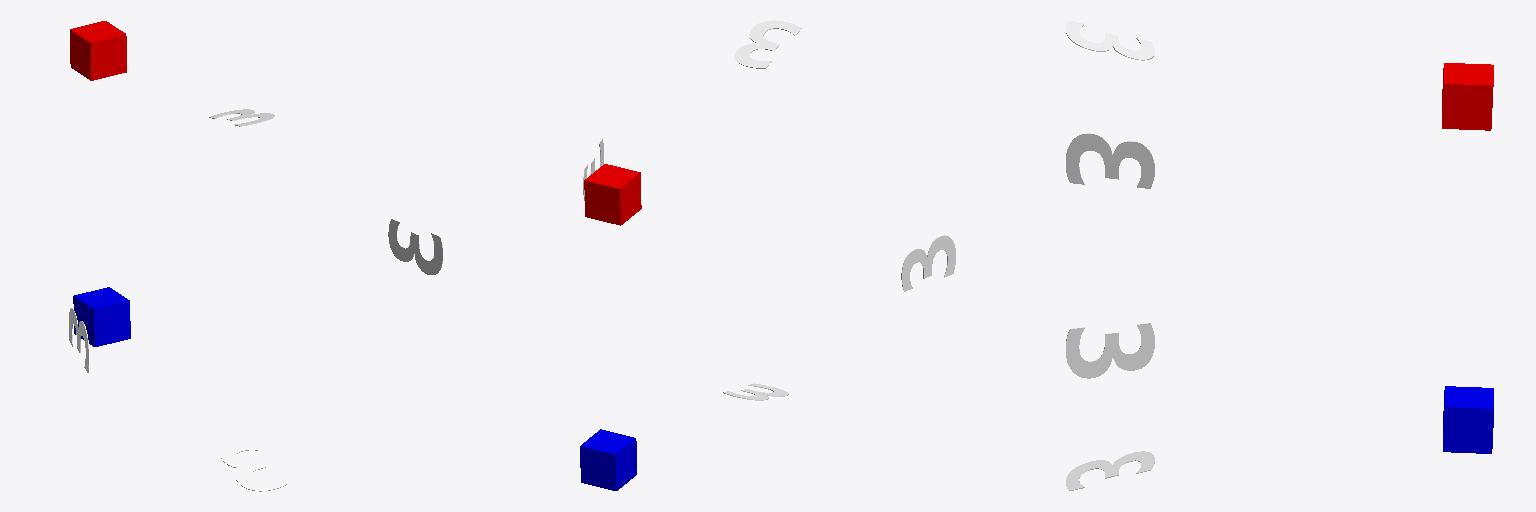
The robot description file, URDF, robot "infantry":
<?xml version="1.0" encoding="utf-8"?>
<!-- This URDF was automatically created by SolidWorks to URDF Exporter! Originally created by
Stephen Brawner (brawner@gmail.com) 
     Commit Version: 1.6.0-4-g7f85cfe  Build Version: 1.6.7995.38578
     For more information, please see http://wiki.ros.org/sw_urdf_exporter -->
<robot
    name="infantry">


    <link name="root">
        <inertial>
            <mass value="0" />
            <inertia ixx="0.00" ixy="0.00" ixz="0.00" iyy="0.00" iyz="0.00" izz="0.00" />
        </inertial>
    </link>
    <link name="root_base_1_link_1">
        <inertial>
            <mass value="0" />
            <inertia ixx="0.00" ixy="0.00" ixz="0.00" iyy="0.00" iyz="0.00" izz="0.00" />
        </inertial>
    </link>
    <link name="root_base_1_link_2">
        <inertial>
            <mass value="0" />
            <inertia ixx="0.00" ixy="0.00" ixz="0.00" iyy="0.00" iyz="0.00" izz="0.00" />
        </inertial>
    </link>
    <joint name="root_z_axis_joint" type="prismatic">
        <parent link="root" />
        <child link="root_base_1_link_1" />
        <axis xyz="0 0 1" />
        <limit effort="100" lower="-20" upper="20" velocity="0.50" />
        <dynamics damping="10.0" friction="10" />
    </joint>
    <joint name="root_x_axis_joint" type="prismatic">
        <parent link="root_base_1_link_1" />
        <child link="root_base_1_link_2" />
        <axis xyz="1 0 0" />
        <limit effort="100" lower="-20" upper="20" velocity="0.50" />
        <dynamics damping="10.0" friction="10" />
    </joint>
    <joint name="root_y_rotation_joint" type="continuous">
        <parent link="root_base_1_link_2" />
        <child link="base_link" />
        <axis xyz="0 1 0" />
        <dynamics damping="10.0" friction="1" />
    </joint>


    <link
        name="base_link">
        <inertial>
            <origin
                xyz="6.06925946495807E-05 -0.0951517381837546 -0.00195378661860102"
                rpy="0 0 0" />
            <mass
                value="31.9580603600281" />
            <inertia
                ixx="0.575658821423168"
                ixy="-0.000232623478846163"
                ixz="0.000372103192936311"
                iyy="0.975286073242314"
                iyz="0.00748853471499854"
                izz="0.562657367224856" />
        </inertial>
        <visual>
            <origin
                xyz="0 0 0"
                rpy="0 0 0" />
            <geometry>
                <mesh
                    filename="package://infantry/meshes/base_link.STL" />
            </geometry>
            <material
                name="base_link">
                <!-- yellow: 0.984 0.737 0.020 1" -->
                <color
                    rgba="0.79216 0.81961 0.93333  1" />
            </material>
        </visual>
        <collision>
            <origin
                xyz="0 -0.17 0"
                rpy="1.57 0 0" />
            <geometry>
                <cylinder radius="0.28" length="0.002" />
            </geometry>
        </collision>
    </link>
    <link
        name="mount_link">
        <inertial>
            <origin
                xyz="-0.010489 0.09779 -1.1047E-09"
                rpy="0 0 0" />
            <mass
                value="2.1267" />
            <inertia
                ixx="0.0095801"
                ixy="-7.7406E-05"
                ixz="2.458E-11"
                iyy="0.041997"
                iyz="-7.3513E-10"
                izz="0.046704" />
        </inertial>
        <visual>
            <origin
                xyz="0 0 0"
                rpy="0 0 0" />
            <geometry>
                <mesh
                    filename="package://infantry/meshes/mount_link.STL" />
            </geometry>
            <material
                name="mount_link">
                <color
                    rgba="0.79216 0.81961 0.93333 1" />
            </material>
        </visual>
    </link>
    <joint
        name="yaw_joint"
        type="continuous">
        <origin
            xyz="0 0 0"
            rpy="0 0 0" />
        <parent
            link="base_link" />
        <child
            link="mount_link" />
        <axis
            xyz="0 1 0" />
    </joint>
    <link
        name="turret_link">
        <inertial>
            <origin
                xyz="-2.0482E-05 -0.019429 0.0081579"
                rpy="0 0 0" />
            <mass
                value="5.2999" />
            <inertia
                ixx="0.053074"
                ixy="5.1204E-07"
                ixz="-3.5196E-05"
                iyy="0.057288"
                iyz="-0.00072947"
                izz="0.019007" />
        </inertial>
        <visual>
            <origin
                xyz="0 0 0"
                rpy="0 0 0" />
            <geometry>
                <mesh
                    filename="package://infantry/meshes/turret_link.STL" />
            </geometry>
            <material
                name="turret_link">
                <color
                    rgba="0.79216 0.81961 0.93333 1" />
            </material>
        </visual>
    </link>
    <joint
        name="pitch_joint"
        type="revolute">
        <origin
            xyz="0 0.1845 0"
            rpy="-0.042847 0 0" />
        <parent
            link="mount_link" />
        <child
            link="turret_link" />
        <axis
            xyz="1 0 0" />
        <limit
            lower="-1.7"
            upper="1.7"
            effort="0"
            velocity="0" />
    </joint>
    <link name="camera_link">
        <visual>
            <geometry>
                <box size="0.05 0.05 0.05" />
            </geometry>
            <material name="debug_color">
                <color rgba="0.98 0 0 1" />
            </material>
        </visual>
    </link>
    <joint
        name="camera_joint"
        type="fixed">
        <parent link="turret_link" />
        <child link="camera_link" />
        <!-- TODO make this more exact -->
        <origin xyz="0 0.08 0.18" rpy="-1.57 -1.57 0" />
    </joint>

    <link name="lidar_link">
        <visual>
            <geometry>
                <box size="0.05 0.05 0.05" />
            </geometry>
            <material name="lidar_color">
                <color rgba="0 0 1 1" />
            </material>
        </visual>
    </link>
    <joint
        name="lidar_joint"
        type="fixed">
        <parent link="turret_link" />
        <child link="lidar_link" />
        <!-- TODO make this more exact -->
        <origin xyz="0.0055 0.096125 -0.175213" rpy="-1.57 1.57 0" />
    </joint>

    <link
        name="plates_link">
        <inertial>
            <origin
                xyz="0 0 0"
                rpy="0 0 0" />
            <mass
                value="0" />
            <inertia
                ixx="0"
                ixy="0"
                ixz="0"
                iyy="0"
                iyz="0"
                izz="0" />
        </inertial>
        <visual>
            <origin
                xyz="0 0 0"
                rpy="0 0 0" />
            <geometry>
                <mesh
                    filename="package://infantry/meshes/plates_link.STL" />
            </geometry>
            <material
                name="plates_link">
                <color
                    rgba="0 0 0 1" />
            </material>
        </visual>
        <!-- <collision>
            <origin
                xyz="0 0 0"
                rpy="0 0 0" />
            <geometry>
                <mesh
                    filename="package://infantry/meshes/plates_link.STL" />
            </geometry>
        </collision> -->
    </link>
    <joint
        name="plates_joint"
        type="fixed">
        <origin
            xyz="-0.25574 -0.14582 -0.05297"
            rpy="3.1336 0.029996 2.8797" />
        <parent
            link="base_link" />
        <child
            link="plates_link" />
        <axis
            xyz="0 0 0" />
    </joint>
    <link
        name="lightbars_link">
        <visual>
            <origin
                xyz="0 0 0"
                rpy="0 0 0" />
            <geometry>
                <mesh
                    filename="package://infantry/meshes/lightbars_link.STL" />
            </geometry>
            <material
                name="lightbars_link">
                <color
                    rgba="0 0 1 1" />
            </material>
        </visual>
    </link>
    <joint
        name="lightbars_joint"
        type="fixed">
        <origin
            xyz="0 0.12792 -0.090009"
            rpy="-3.1416 0 0" />
        <parent
            link="plates_link" />
        <child
            link="lightbars_link" />
        <axis
            xyz="0 0 0" />
    </joint>
    <link
        name="numbers_link">

        <visual>
            <origin
                xyz="-0.236 -0.095 -0.002"
                rpy="0 3.1415 -0.26" />
            <geometry>
                <mesh
                    filename="package://infantry/meshes/numbers_link.STL" />
            </geometry>
            <material
                name="numbers_link">
                <color
                    rgba="1 1 1 1" />
            </material>
        </visual>

        <visual>
            <origin
                xyz="0.002 -0.095 -0.236"
                rpy=" 1.5716 1.3108 1.5716 " />
            <geometry>
                <mesh
                    filename="package://infantry/meshes/numbers_link.STL" />
            </geometry>
            <material
                name="numbers_link">
                <color
                    rgba="1 1 1 1" />
            </material>
        </visual>

        <visual>
            <origin
                xyz="0.236 -0.095 0.002"
                rpy="0 0 0.26" />
            <geometry>
                <mesh
                    filename="package://infantry/meshes/numbers_link.STL" />
            </geometry>
            <material
                name="numbers_link">
                <color
                    rgba="1 1 1 1" />
            </material>
        </visual>

        <visual>
            <origin
                xyz="-0.002 -0.095 0.236"
                rpy="-1.5716 -1.3108 1.5716" />
            <geometry>
                <mesh
                    filename="package://infantry/meshes/numbers_link.STL" />
            </geometry>
            <material
                name="numbers_link">
                <color
                    rgba="1 1 1 1" />
            </material>
        </visual>
    </link>
    <joint
        name="numbers_joint"
        type="fixed">
        <origin
            xyz="0 0 0"
            rpy="0 0 0" />
        <parent
            link="base_link" />
        <child
            link="numbers_link" />
        <axis
            xyz="0 0 0" />
    </joint>
</robot>

--- Facts derived from the render (not from the file) ---
The picture shows the robot from 3 angles, left to right: view 1: azimuth 30°, elevation 25°; view 2: azimuth 150°, elevation 25°; view 3: azimuth 270°, elevation 25°; orthographic projection.
Robot: infantry — 11 links, 10 joints (1 revolute, 2 continuous, 2 prismatic, 5 fixed); root link root; default pose: every joint at zero.
Links seen in each view (by area): view 1: numbers_link, camera_link, lidar_link; view 2: numbers_link, lidar_link, camera_link; view 3: numbers_link, camera_link, lidar_link.
Boxes of the visible links, <box> form: numbers_link: <box>69,109,442,491</box>; camera_link: <box>70,21,126,80</box>; lidar_link: <box>73,287,130,346</box>; numbers_link: <box>583,20,955,400</box>; lidar_link: <box>580,429,636,490</box>; camera_link: <box>584,164,641,225</box>; numbers_link: <box>1066,21,1154,490</box>; camera_link: <box>1442,63,1493,130</box>; lidar_link: <box>1443,386,1493,453</box>.
Bounding box of the posed robot: 0.4929 × 0.4305 × 0.4929 m (x, y, z).
Meshes: 6 distinct files referenced, 4 mesh visuals loaded (1 binary STL); not drawn: 5 (reference not matched to a file when rendering).
